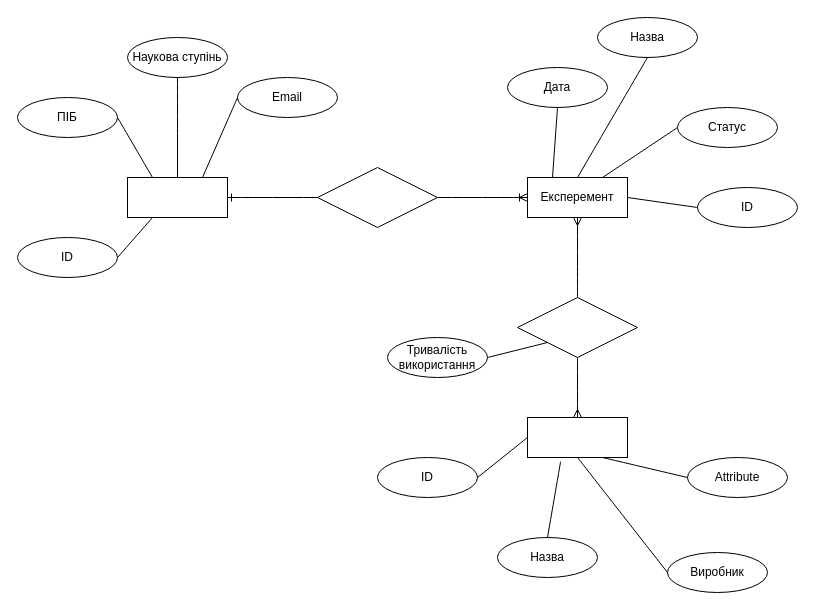
The diagram is 815 pixels wide and 610 high, and some of its shapes have lost their labels. The centre of each missing label's shape, as x and y in pixels:
"Використовує" belongs at pixel 577 327.
"Дослідник" belongs at pixel 177 197.
"Керує" belongs at pixel 377 197.
"обладнання" belongs at pixel 577 437.
